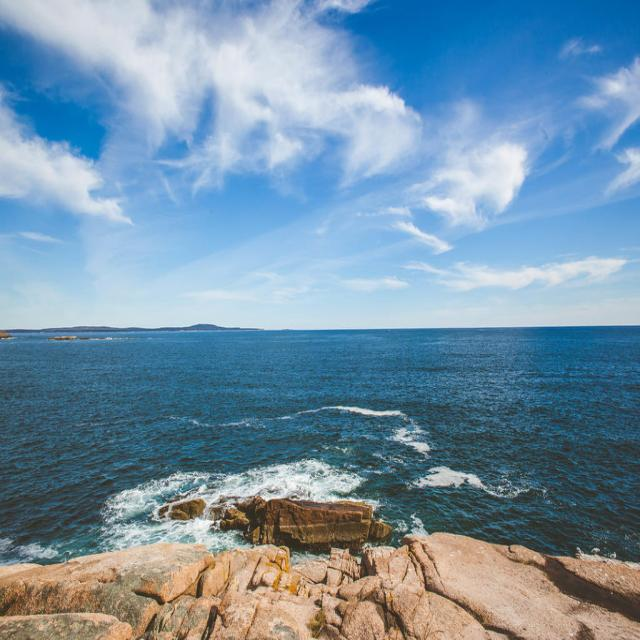reef: (165, 472, 449, 592)
